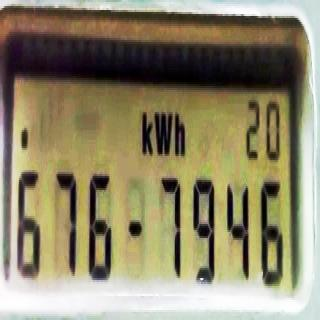-: (128, 201, 143, 254), (20, 123, 29, 153)
0: (265, 94, 281, 168)
2: (246, 90, 260, 169)
4: (225, 176, 252, 287)
6: (13, 158, 42, 288), (87, 162, 113, 292), (258, 172, 286, 291)
7: (53, 163, 81, 281), (161, 166, 183, 289)
9: (191, 170, 218, 292)
